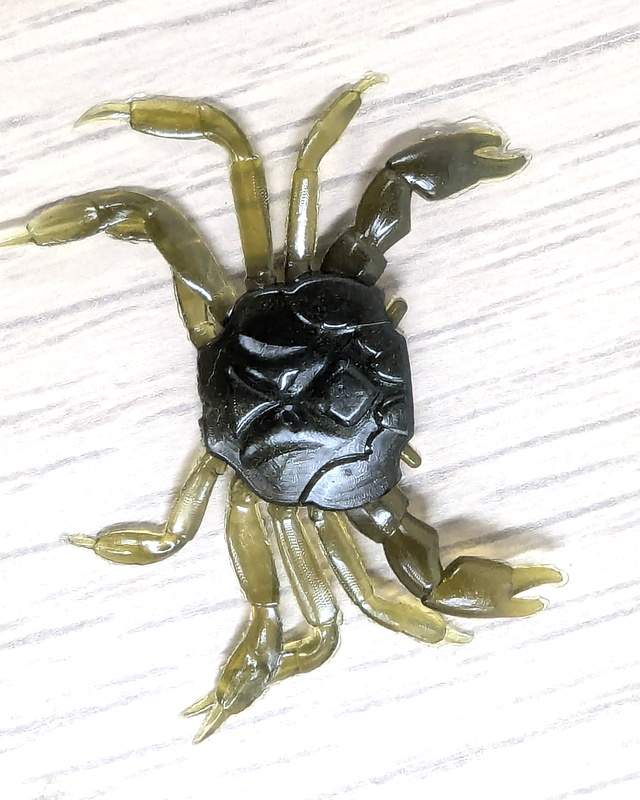crab2: (1, 70, 571, 742)
